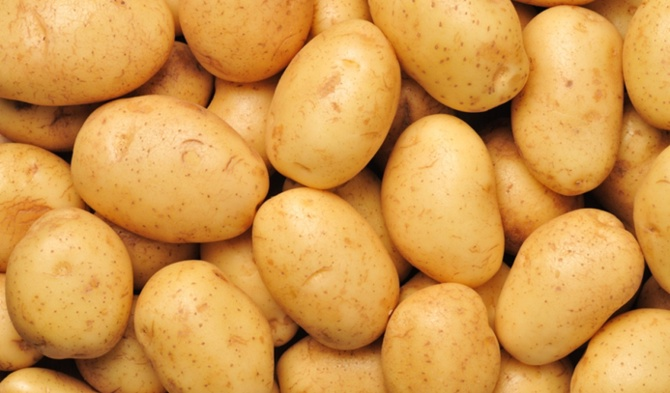Potato: (61, 98, 265, 233), (495, 204, 643, 360), (269, 17, 395, 184), (7, 198, 133, 365), (249, 189, 383, 346), (516, 5, 625, 194), (130, 262, 284, 393), (387, 118, 502, 286)
